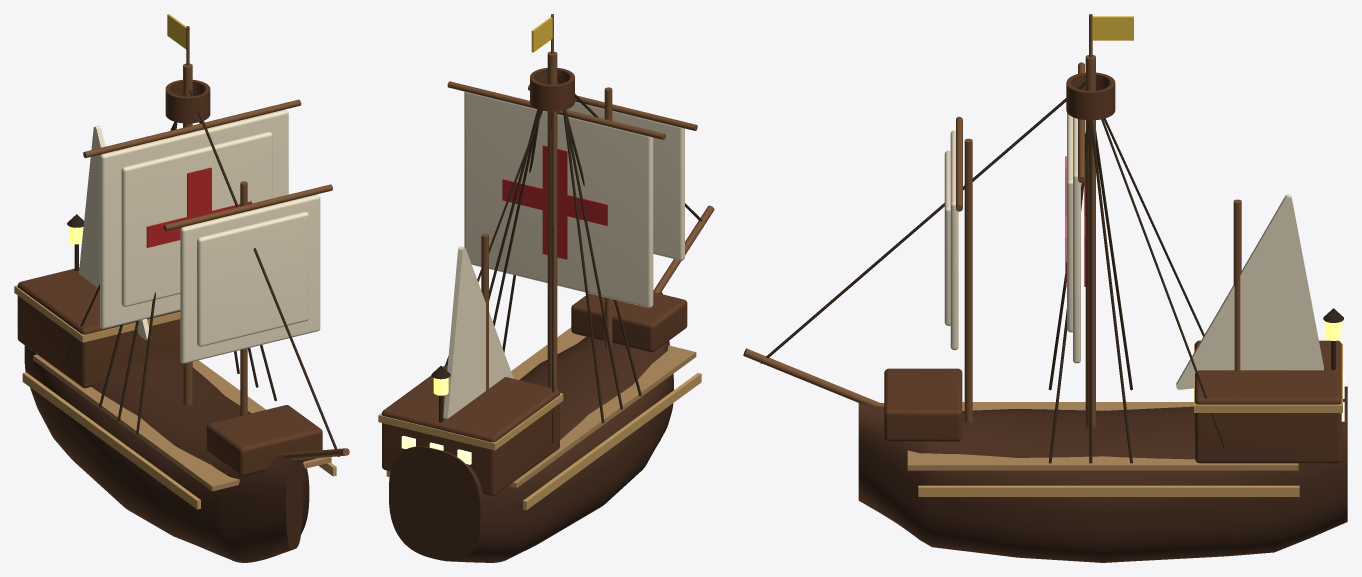
File: nao.glb
The picture shows the model from 3 angles, left to right: view 1: azimuth 30°, elevation 25°; view 2: azimuth 150°, elevation 25°; view 3: azimuth 270°, elevation 25°; orthographic projection. The views are drawn at different scales.
Parts seen in each view (by area): view 1: Hull, Belly_Main, Belly_Fore, Sterncastle, Sail_Main, Sail_Fore, Forecastle, Deck, Sail_Lateen, Wale_L, CrowsNest, Yard_Main (+10 smaller); view 2: Hull, Sail_Main, Sterncastle, Sail_Lateen, Sail_Fore, Forecastle, Deck, Mast_Main, Wale_L, CrossH_Main_B, CrowsNest, CrossV_Main_B (+14 smaller); view 3: Hull, Sterncastle, Sail_Lateen, Deck, Forecastle, Wale_R, Mast_Main, Mast_Fore, CrowsNest, Sail_Main, Sail_Fore, SternBand (+11 smaller).
Part boxes in pixels (x1,y1,x2,y2): Hull: (24, 345, 309, 562); Belly_Main: (121, 131, 272, 306); Belly_Fore: (197, 211, 308, 346); Sterncastle: (17, 268, 180, 388); Sail_Main: (100, 109, 288, 328); Sail_Fore: (180, 194, 320, 363); Forecastle: (206, 405, 322, 476); Deck: (33, 354, 331, 491); Sail_Lateen: (79, 125, 150, 340); Wale_L: (22, 372, 200, 509); CrowsNest: (165, 79, 210, 123); Yard_Main: (83, 99, 301, 157); Hull: (389, 292, 673, 562); Sail_Main: (464, 91, 653, 307); Sterncastle: (382, 364, 559, 496); Sail_Lateen: (443, 246, 513, 418); Sail_Fore: (566, 102, 684, 260); Forecastle: (571, 292, 687, 352); Deck: (509, 327, 696, 488); Mast_Main: (547, 51, 557, 389); Wale_L: (523, 373, 701, 510); CrossH_Main_B: (502, 179, 607, 225); CrowsNest: (530, 68, 574, 111); CrossV_Main_B: (542, 145, 567, 259); Hull: (858, 386, 1347, 562); Sterncastle: (1195, 340, 1341, 463); Sail_Lateen: (1176, 194, 1323, 389); Deck: (907, 402, 1298, 470); Forecastle: (884, 368, 962, 441); Wale_R: (918, 485, 1299, 496); Mast_Main: (1085, 55, 1095, 427); Mast_Fore: (964, 138, 972, 422); CrowsNest: (1066, 72, 1115, 120); Sail_Main: (1073, 117, 1080, 363); Sail_Fore: (950, 130, 958, 350); SternBand: (1194, 343, 1342, 412).
Size of the model in its own units: 2.33 by 5.05 by 5.19.
